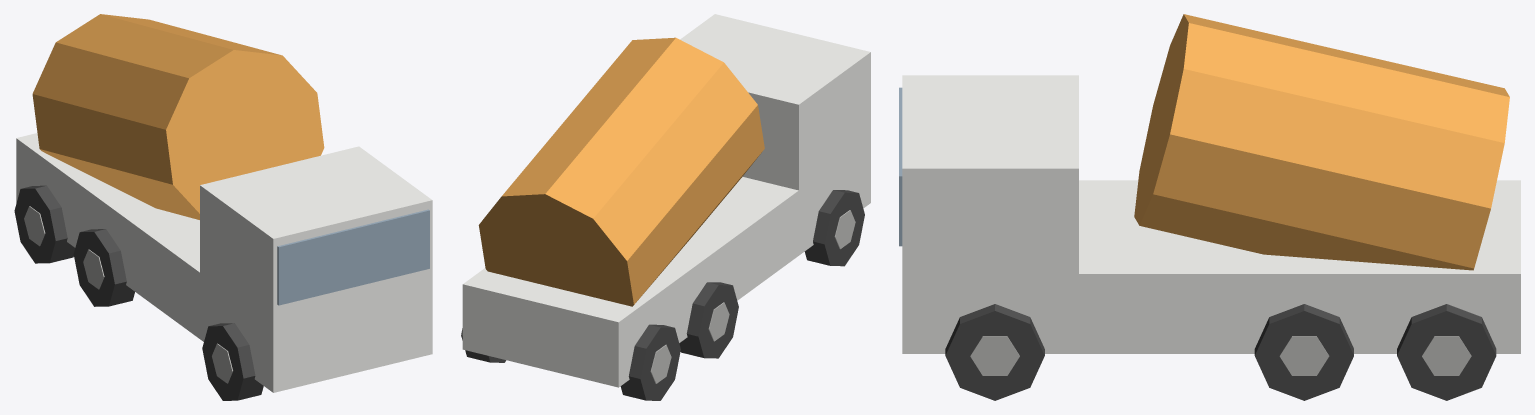
Rendered from mixer.glb.
The picture shows the model from 3 angles, left to right: view 1: azimuth 30°, elevation 25°; view 2: azimuth 150°, elevation 25°; view 3: azimuth 270°, elevation 25°; orthographic projection. The views are drawn at different scales.
Parts seen in each view (by area): view 1: mixer; view 2: mixer; view 3: mixer.
Boxes of the visible parts, x1,y1,x2,y2 form: mixer: (14, 14, 432, 400); mixer: (461, 14, 870, 400); mixer: (899, 14, 1520, 400).
Size of the model in its own units: 2.32 by 3.24 by 5.63.
